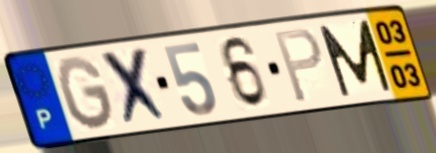5: (160, 38, 219, 118)
6: (218, 34, 269, 111)
G: (55, 53, 119, 133)
M: (315, 17, 395, 100)
P: (271, 26, 326, 107)
X: (97, 43, 174, 131)
